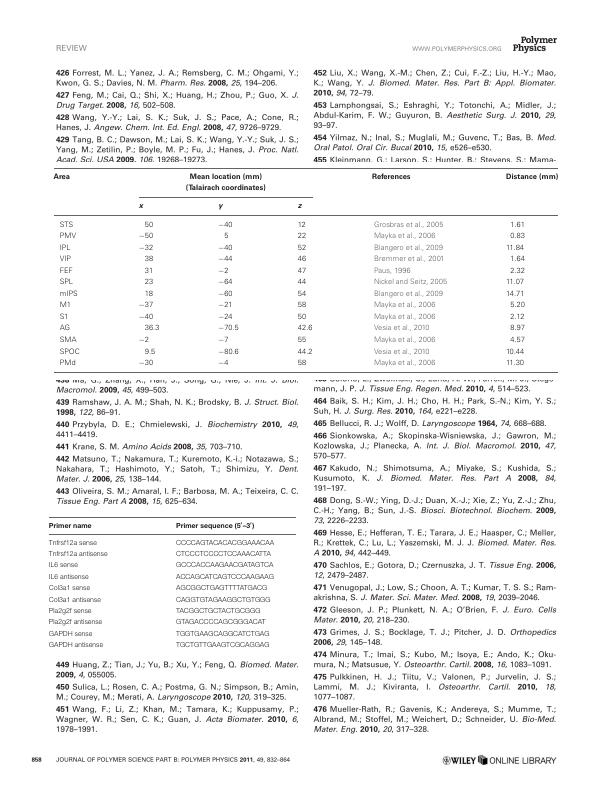borderless: (53, 167, 558, 372), (47, 515, 297, 650)
cell: (185, 173, 267, 193), (175, 539, 275, 548), (175, 573, 275, 582), (175, 550, 271, 559), (175, 641, 270, 650), (175, 584, 268, 593), (175, 562, 274, 570), (175, 607, 261, 616), (175, 596, 271, 604), (175, 630, 270, 638), (175, 619, 266, 627), (373, 278, 448, 287), (373, 256, 445, 265), (175, 522, 255, 530), (373, 221, 444, 230), (373, 244, 444, 253), (373, 290, 444, 299), (373, 313, 436, 322), (373, 336, 436, 345), (373, 359, 436, 368), (48, 550, 108, 559), (373, 325, 430, 334), (373, 348, 430, 357), (373, 233, 436, 241), (373, 302, 436, 310), (48, 641, 104, 650), (48, 539, 97, 548), (48, 619, 103, 627), (505, 173, 559, 181), (48, 596, 101, 604), (48, 607, 92, 616), (48, 584, 91, 593), (48, 573, 89, 582), (48, 630, 93, 638), (48, 522, 92, 530), (373, 267, 412, 276), (371, 173, 412, 181), (48, 562, 78, 570), (217, 325, 240, 334), (217, 348, 240, 357), (59, 348, 81, 357), (505, 244, 525, 253), (505, 278, 525, 287), (59, 290, 79, 299), (505, 290, 525, 299), (505, 348, 525, 357), (505, 359, 525, 368), (59, 336, 77, 345), (59, 359, 77, 368), (217, 221, 234, 230), (509, 221, 526, 230), (217, 244, 234, 253), (217, 256, 234, 265), (509, 256, 526, 265), (509, 267, 526, 276), (217, 278, 234, 287), (217, 290, 234, 299), (217, 302, 234, 311), (217, 313, 234, 322), (509, 325, 526, 334), (509, 336, 526, 345), (52, 173, 71, 181), (59, 233, 77, 241), (138, 244, 154, 253), (138, 302, 154, 311), (138, 313, 154, 322), (509, 313, 525, 322), (144, 325, 160, 334), (297, 325, 313, 334), (297, 348, 313, 357), (138, 359, 154, 368), (509, 233, 526, 241), (509, 302, 526, 310), (59, 221, 74, 230), (59, 267, 74, 276), (59, 278, 74, 287), (138, 233, 154, 241), (59, 244, 72, 253), (59, 256, 72, 265), (59, 302, 72, 311), (217, 267, 229, 276), (59, 325, 71, 334), (138, 336, 150, 345), (217, 336, 229, 345), (144, 348, 156, 357), (217, 359, 229, 368), (144, 221, 154, 230), (297, 221, 307, 230), (297, 244, 307, 253), (144, 256, 154, 265), (297, 256, 307, 265), (144, 267, 154, 276), (297, 267, 307, 276), (144, 278, 154, 287), (297, 278, 307, 287), (144, 290, 154, 299), (297, 290, 307, 299), (297, 302, 307, 311), (59, 313, 69, 322), (297, 313, 307, 322), (297, 336, 307, 345), (297, 359, 307, 368), (297, 233, 307, 241), (223, 233, 229, 241), (138, 204, 144, 211), (217, 204, 223, 211), (297, 204, 302, 211)
